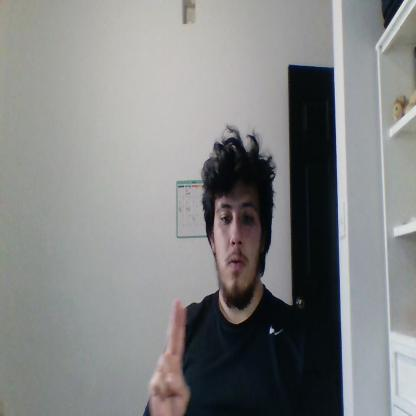U: (148, 297, 190, 415)
